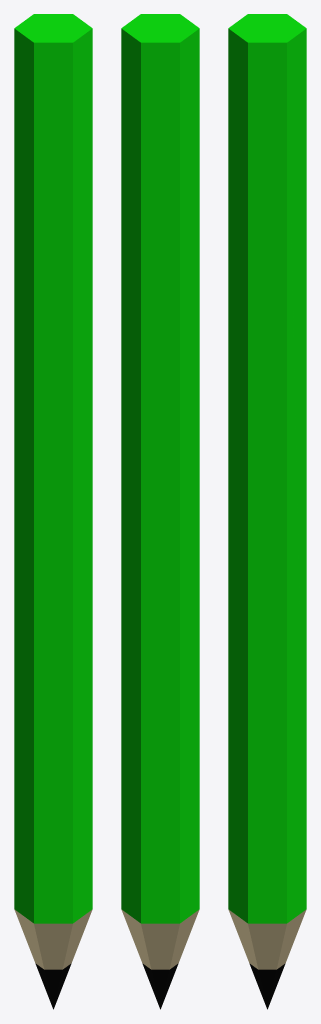
Rendered from pen.glb.
3 views of the same model, side by side, from view 1: azimuth 30°, elevation 25°; view 2: azimuth 150°, elevation 25°; view 3: azimuth 330°, elevation 25° (orthographic).
Parts seen in each view (by area): view 1: 円; view 2: 円; view 3: 円.
Part boxes in pixels (x1,y1,x2,y2): 円: [14, 14, 92, 1009]; 円: [121, 14, 199, 1009]; 円: [228, 14, 306, 1009].
Size of the model in its own units: 0.6406 by 10.22 by 0.7397.
